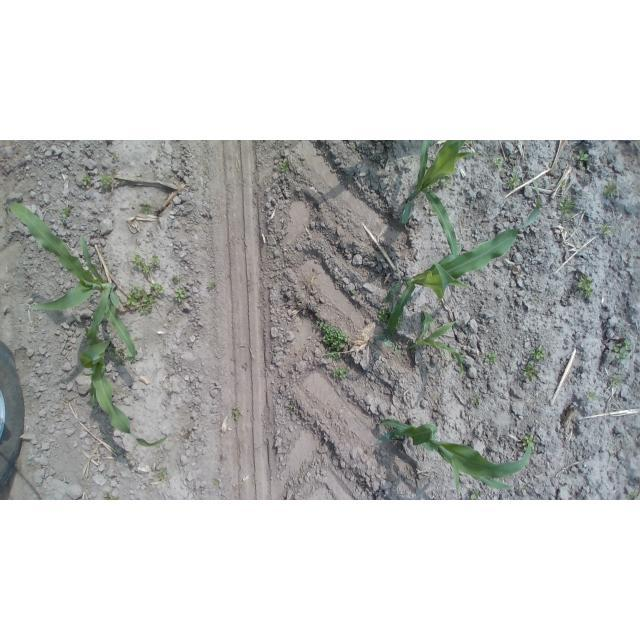Maize: (374, 181, 541, 344), (6, 196, 136, 365), (374, 416, 536, 501), (83, 320, 172, 449), (401, 141, 474, 262), (406, 307, 467, 379)
Weeds: (314, 318, 350, 363), (123, 283, 165, 316), (131, 251, 161, 275), (107, 345, 137, 365), (384, 335, 404, 357), (577, 274, 594, 298), (614, 339, 631, 362), (602, 178, 620, 198), (558, 195, 574, 216), (504, 170, 520, 190), (523, 363, 540, 381), (572, 150, 590, 167), (140, 200, 157, 217), (374, 307, 391, 324), (523, 434, 537, 454), (331, 366, 349, 381), (99, 171, 113, 190), (429, 177, 452, 188), (609, 372, 623, 388), (530, 347, 546, 361), (174, 288, 188, 303), (156, 465, 168, 481), (61, 204, 74, 218), (491, 155, 504, 169), (470, 488, 484, 500), (81, 171, 92, 185), (485, 352, 497, 364), (600, 223, 613, 234), (104, 492, 120, 500), (232, 406, 240, 421), (279, 161, 289, 172), (471, 395, 481, 406), (586, 391, 596, 401), (397, 314, 404, 328), (212, 478, 221, 487), (561, 179, 567, 192), (631, 492, 640, 500), (111, 152, 118, 161), (174, 275, 183, 282), (208, 281, 216, 288), (24, 304, 30, 313), (449, 358, 457, 364), (1, 307, 7, 315), (441, 350, 447, 357), (530, 296, 536, 303), (289, 404, 296, 409), (440, 366, 448, 370), (460, 351, 465, 357), (467, 140, 473, 145), (352, 289, 357, 295), (164, 438, 168, 443), (480, 267, 484, 271), (20, 170, 25, 173), (517, 276, 520, 280)
